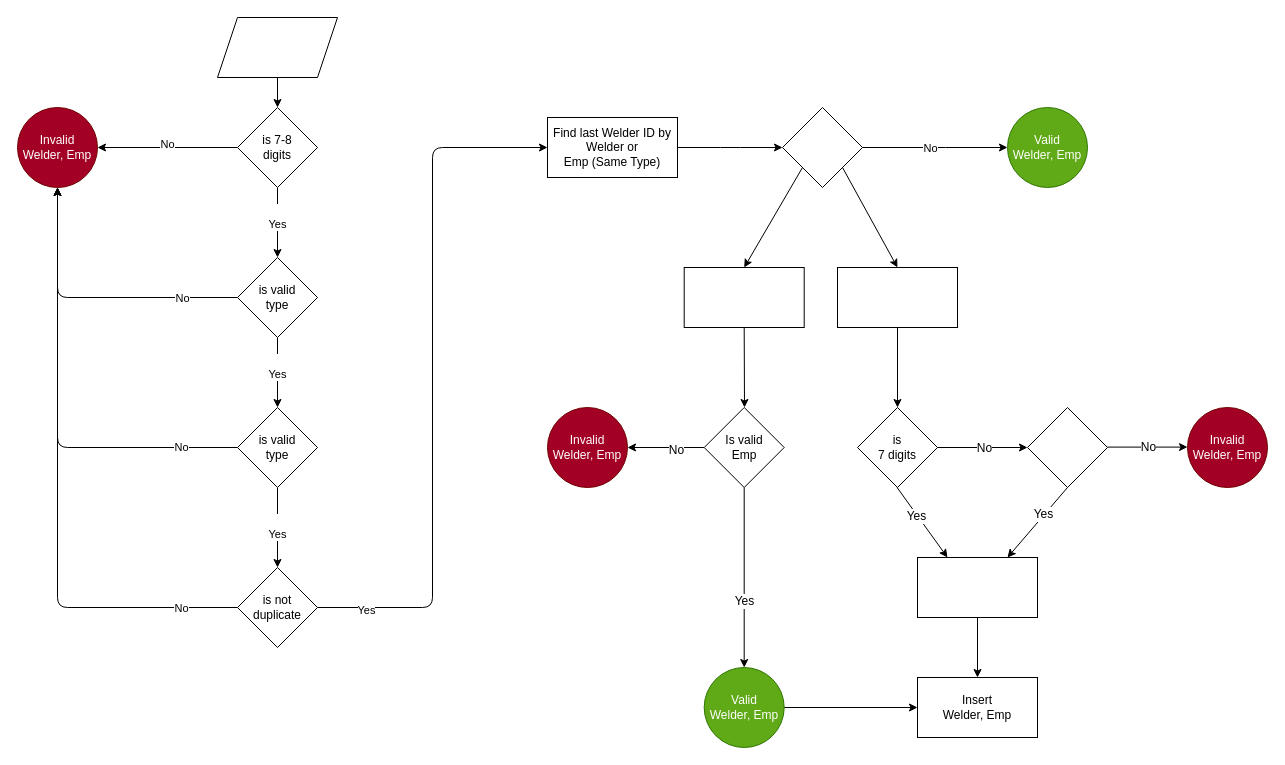
The diagram is 1285 pixels wide and 765 high, and some of its shapes have lost their labels. Each missing label, with the centre of its shape:
by Emp (Same Type): the point at 897,297
by Welder: the point at 743,297
Is Valid Reject Welder: the point at 1067,447
Update End Date by last Welder ID: the point at 977,587
Welder ID: the point at 822,147
Welder, Emp: the point at 277,47
